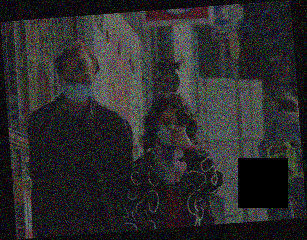with_mask: (155, 116, 189, 151), (60, 71, 96, 102)
